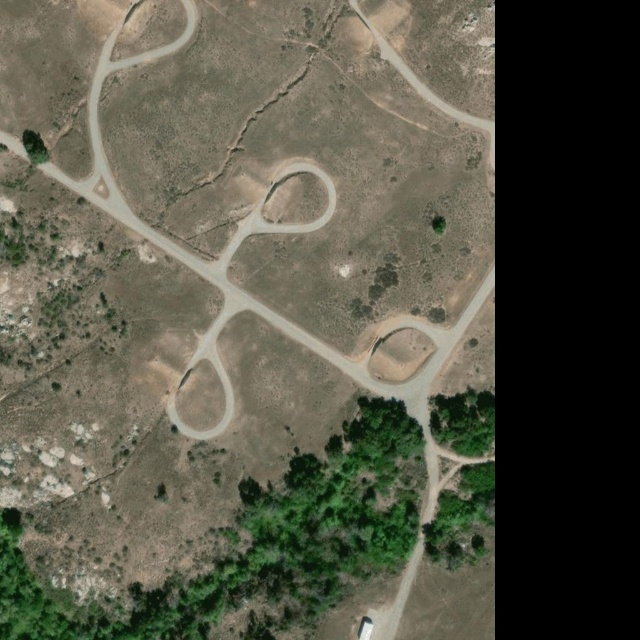vegetation: (0, 396, 425, 640), (422, 460, 500, 570), (425, 388, 497, 457), (18, 131, 47, 162)
